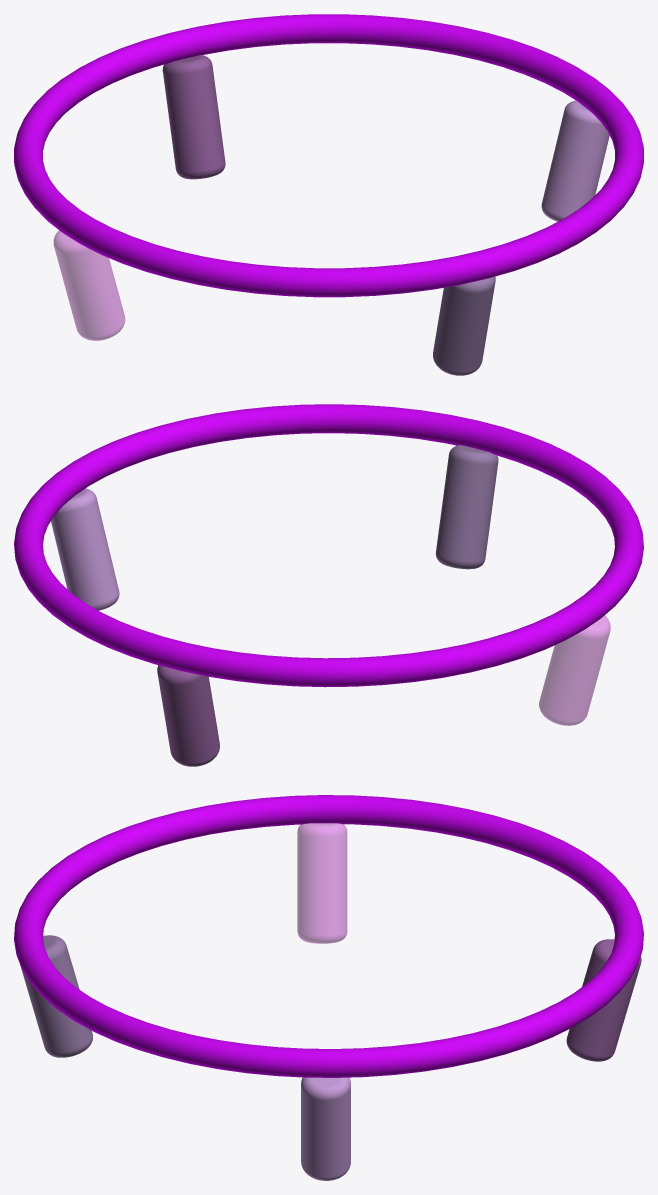
File: LightFixture.glb
The picture shows the model from 3 angles, top to bottom: view 1: azimuth 30°, elevation 25°; view 2: azimuth 150°, elevation 25°; view 3: azimuth 270°, elevation 25°; orthographic projection.
Visible parts, largest first — view 1: Torus, Cylinder 2, Cylinder, Cylinder 3, Cylinder 1; view 2: Torus, Cylinder 1, Cylinder, Cylinder 3, Cylinder 2; view 3: Torus, Cylinder 3, Cylinder, Cylinder 2, Cylinder 1.
Part boxes in pixels (x1,y1,x2,y2): Torus: (14,14,643,297); Cylinder 2: (162,55,225,179); Cylinder: (541,100,609,221); Cylinder 3: (53,230,125,340); Cylinder 1: (433,276,495,375); Torus: (14,404,643,687); Cylinder 1: (435,445,498,569); Cylinder: (51,488,119,610); Cylinder 3: (539,615,610,725); Cylinder 2: (157,665,219,766); Torus: (14,795,643,1077); Cylinder 3: (297,823,347,943); Cylinder: (301,1077,350,1180); Cylinder 2: (566,939,641,1061); Cylinder 1: (20,935,92,1057).
Size of the model in its own units: 13.78 by 3.22 by 13.56.
